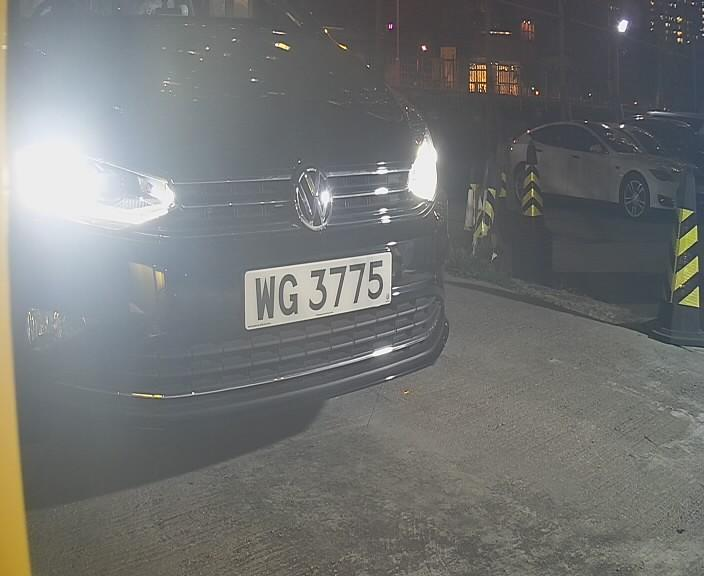Car: (23, 24, 535, 438)
License Plate: (236, 247, 393, 332)
